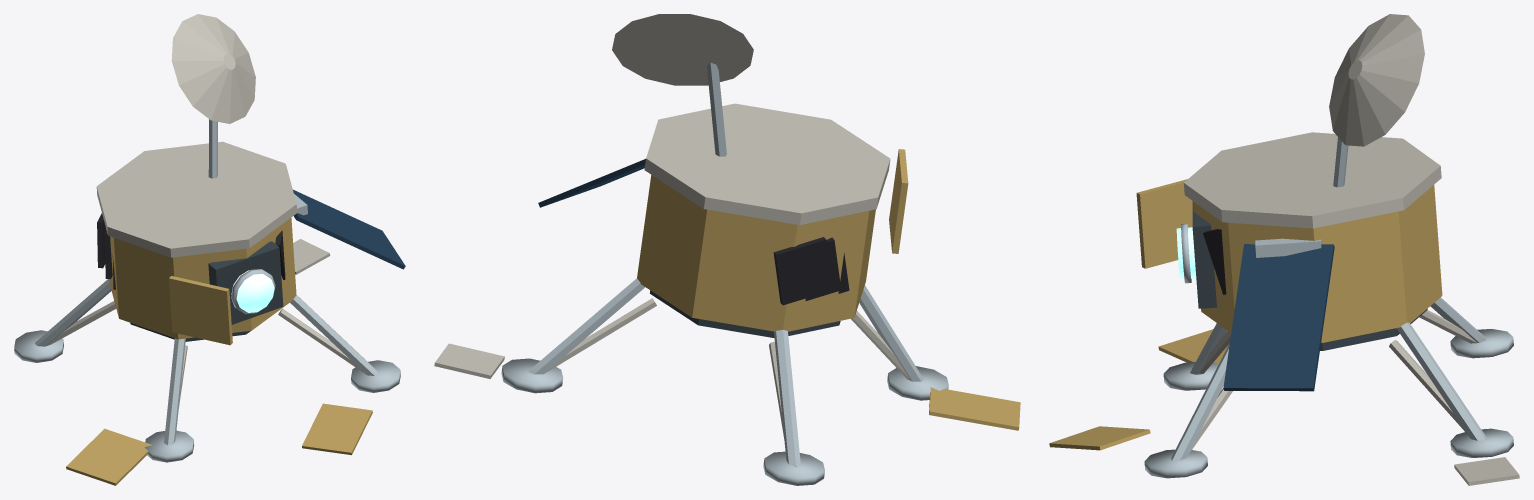
The model's file is lander.glb.
3 renders of one model, left to right at view 1: azimuth 30°, elevation 25°; view 2: azimuth 150°, elevation 25°; view 3: azimuth 270°, elevation 25°, orthographic. The views are drawn at different scales.
Visible parts, largest first — view 1: Lander, Core; view 2: Lander; view 3: Lander, Core.
Part boxes in pixels (left/top/right/bottom): Lander: left=14, top=14, right=405, bottom=485; Core: left=231, top=269, right=275, bottom=314; Lander: left=434, top=14, right=1020, bottom=485; Lander: left=1049, top=14, right=1519, bottom=485; Core: left=1176, top=223, right=1196, bottom=283.
Size of the model in its own units: 3.97 by 3.66 by 3.58.
